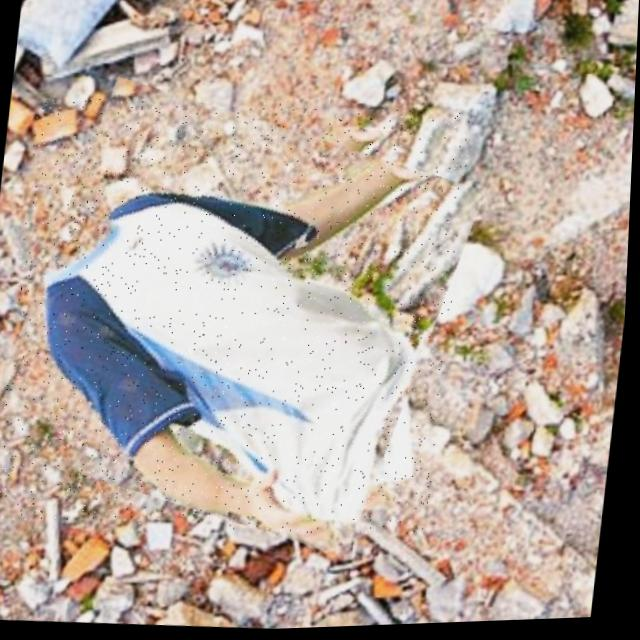Person in Rubble: (0, 83, 476, 551)
